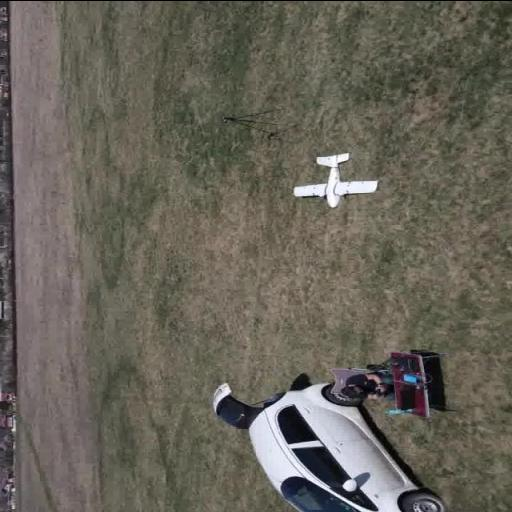uav: (282, 147, 388, 211)
